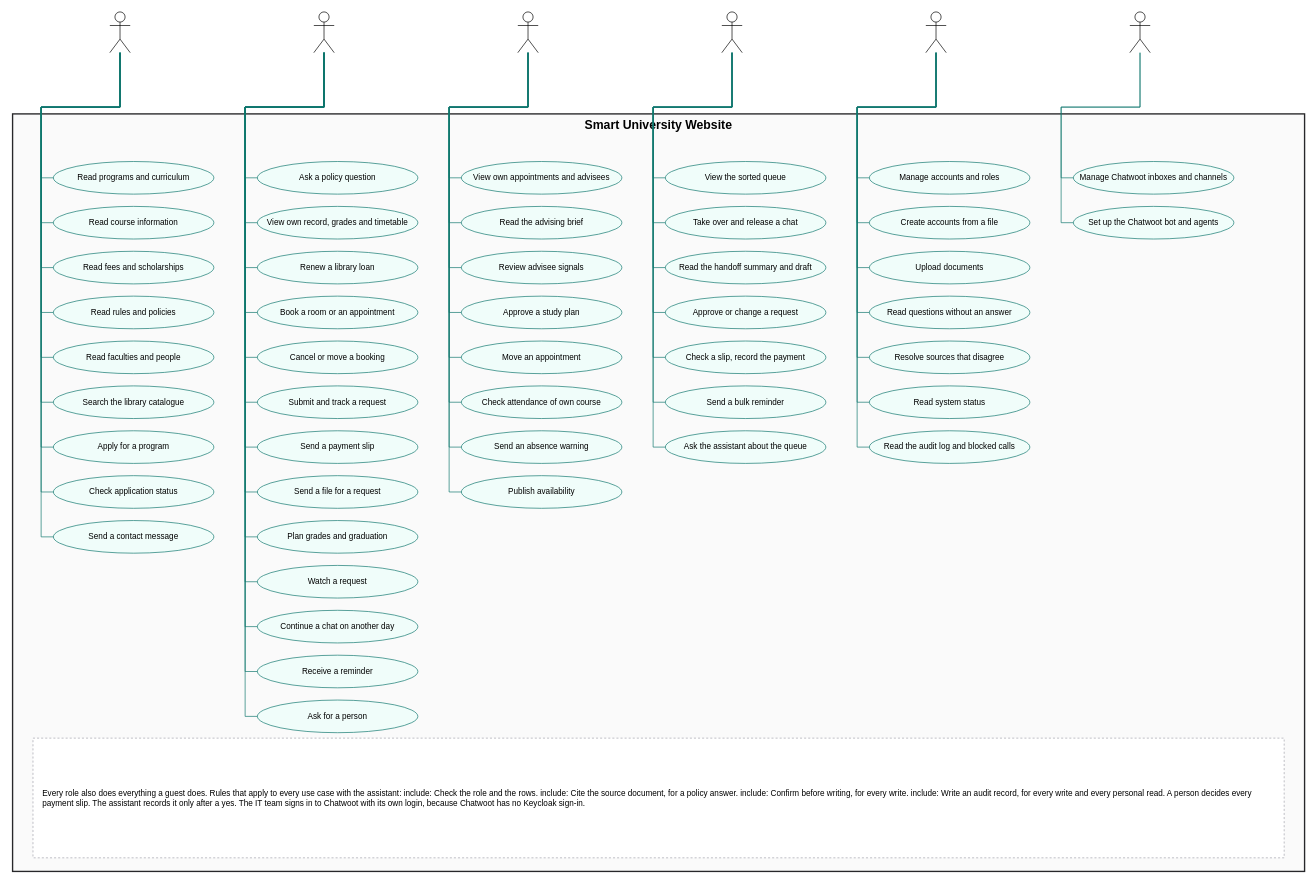
Some shapes in this 1316 by 884 pixel diagram are drawn without their labels. The centre of each missing label's shape, as x and y in pixels:
Administrator: the point at 935,32
Guest: the point at 119,32
Instructor: the point at 527,32
IT team: the point at 1139,32
Staff: the point at 731,32
Student: the point at 323,32
